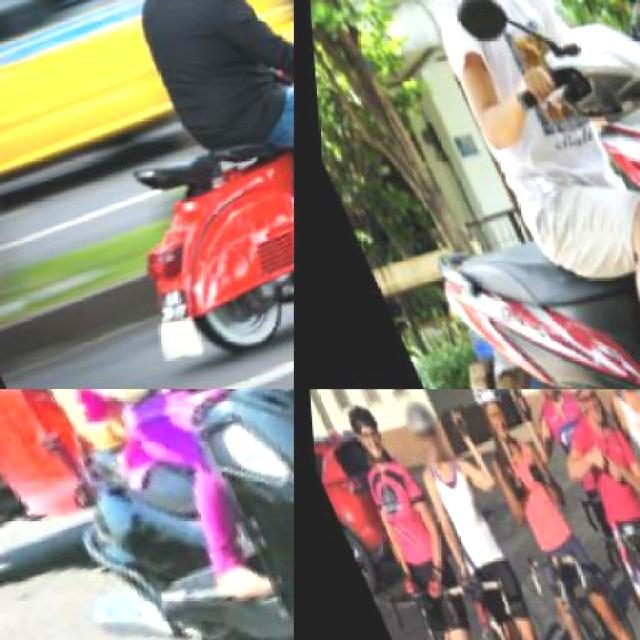With Helmet: (324, 389, 390, 468), (388, 389, 450, 469), (452, 389, 516, 442), (546, 389, 611, 429)
